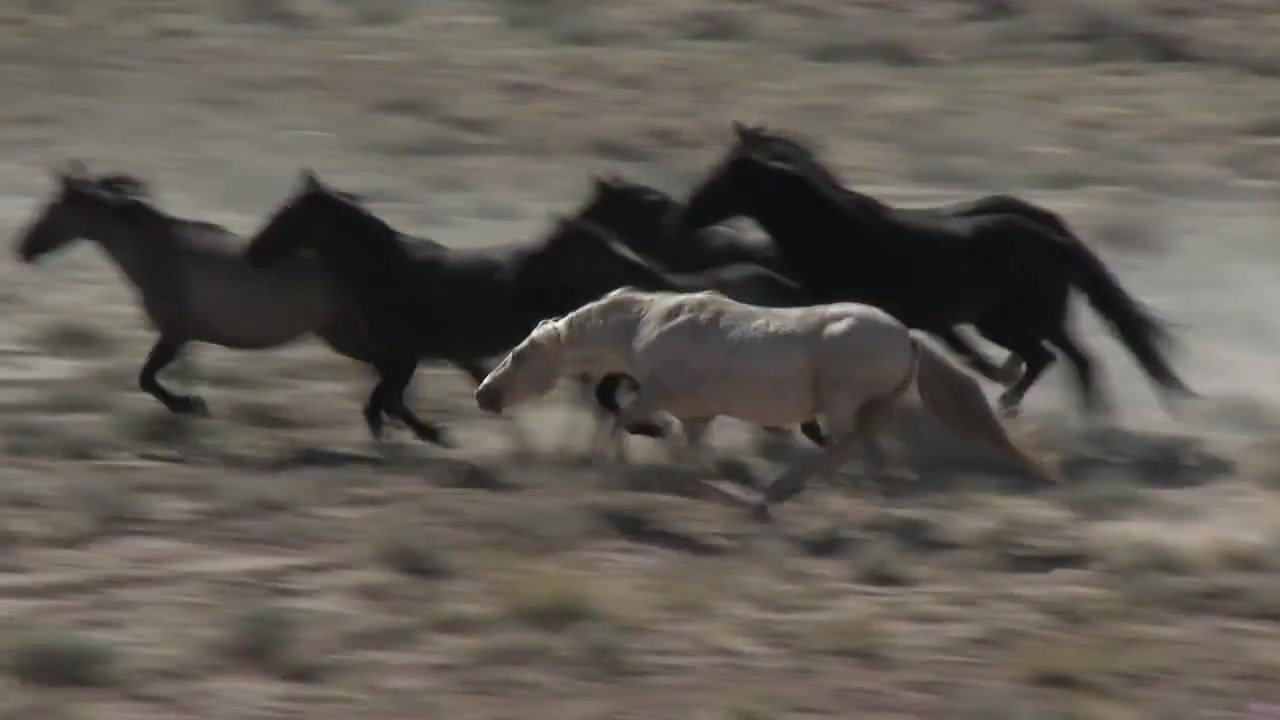horse: (680, 118, 1206, 419), (473, 285, 1062, 520), (237, 168, 630, 447), (582, 172, 1024, 385), (16, 160, 321, 419), (510, 217, 809, 328)
